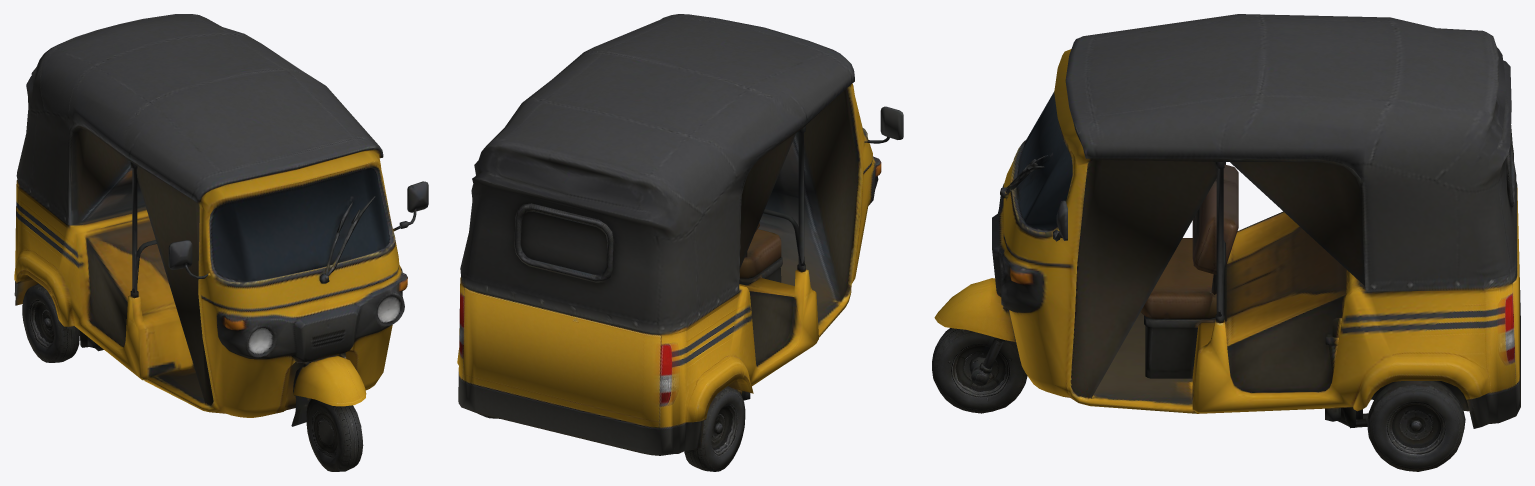
File: rickshaw+3d+model.glb
3 views of the same model, side by side, from view 1: azimuth 30°, elevation 25°; view 2: azimuth 150°, elevation 25°; view 3: azimuth 270°, elevation 25° (orthographic). The views are drawn at different scales.
Parts seen in each view (by area): view 1: tripo_node_908f84db-fb34-43b3-8a26-d485aaa25f88; view 2: tripo_node_908f84db-fb34-43b3-8a26-d485aaa25f88; view 3: tripo_node_908f84db-fb34-43b3-8a26-d485aaa25f88.
Part boxes in pixels (<box>): tripo_node_908f84db-fb34-43b3-8a26-d485aaa25f88: <box>14,14,428,471</box>; tripo_node_908f84db-fb34-43b3-8a26-d485aaa25f88: <box>457,14,903,471</box>; tripo_node_908f84db-fb34-43b3-8a26-d485aaa25f88: <box>932,14,1520,471</box>.
Bounding box in the file's own units: 0.6035 × 0.6738 × 0.998.
1 material, 1 textured.
